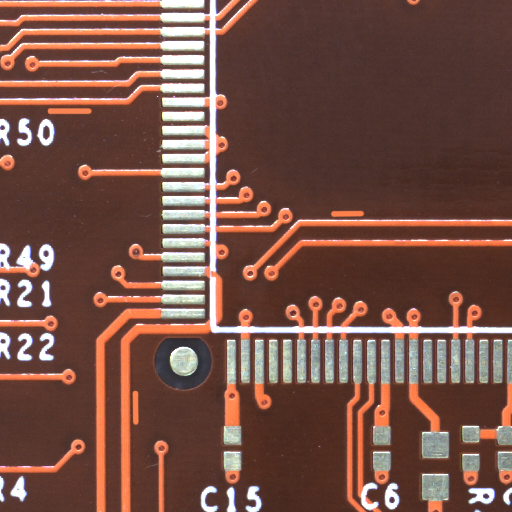Spurious_copper: (68, 110, 119, 119), (347, 213, 380, 224), (135, 406, 143, 445)
